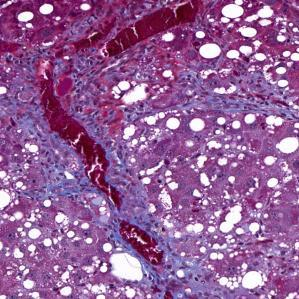fibrosis: (134, 208, 209, 293), (184, 69, 287, 118), (21, 136, 91, 200)
